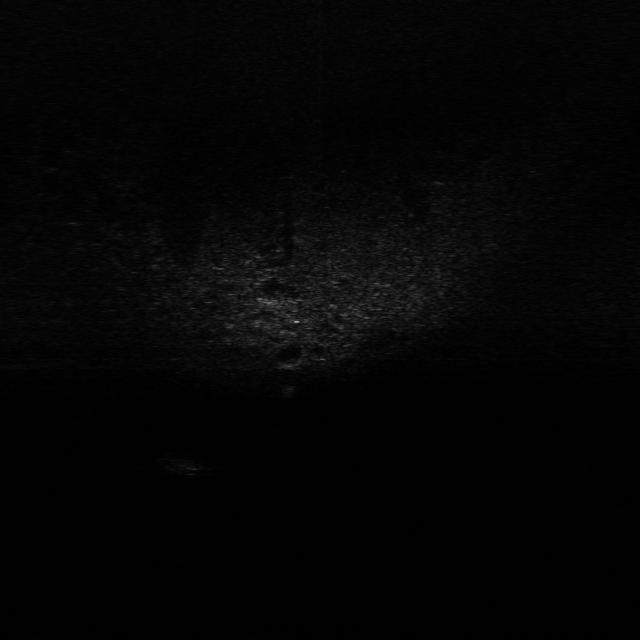circle cage: (149, 447, 222, 476)
cylinder: (280, 378, 298, 400)
